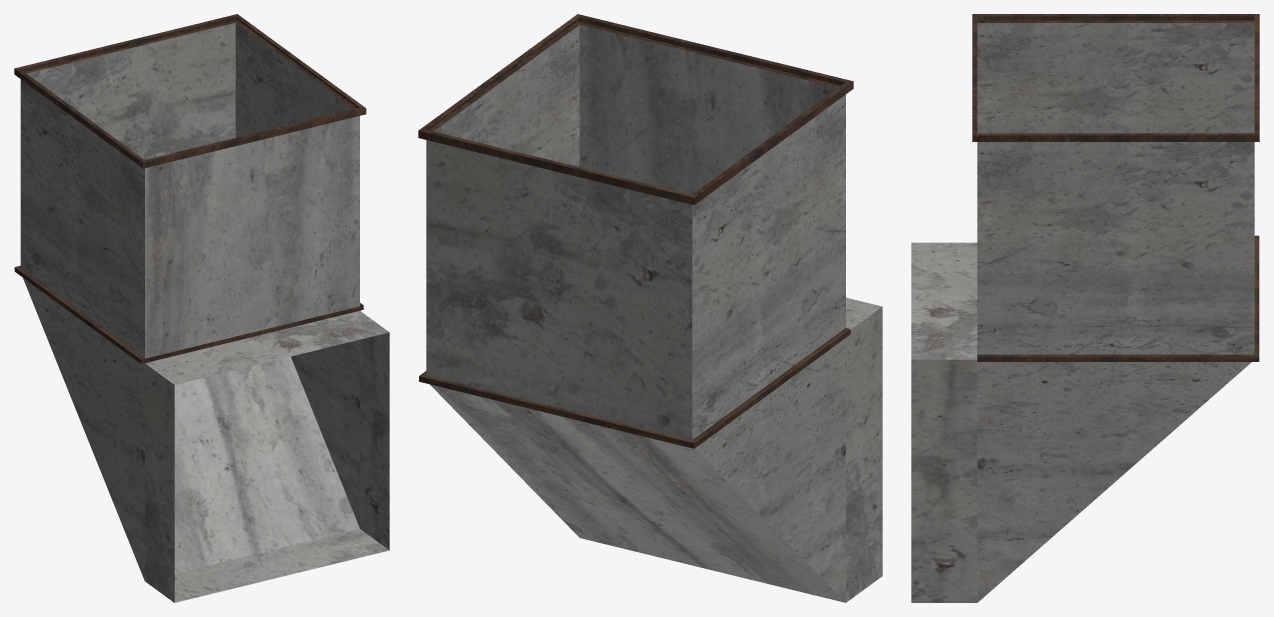
File: Roof_S07.fbx
3 views of the same model, side by side, from view 1: azimuth 30°, elevation 25°; view 2: azimuth 150°, elevation 25°; view 3: azimuth 270°, elevation 25° (orthographic). The views are drawn at different scales.
Parts seen in each view (by area): view 1: Rf_01 (6); view 2: Rf_01 (6); view 3: Rf_01 (6).
Boxes of the visible parts, x1,y1,x2,y2 form: Rf_01 (6): (14, 14, 389, 602); Rf_01 (6): (418, 14, 882, 602); Rf_01 (6): (911, 14, 1259, 602).
Size of the model in its own units: 78.2 by 141 by 94.8.
